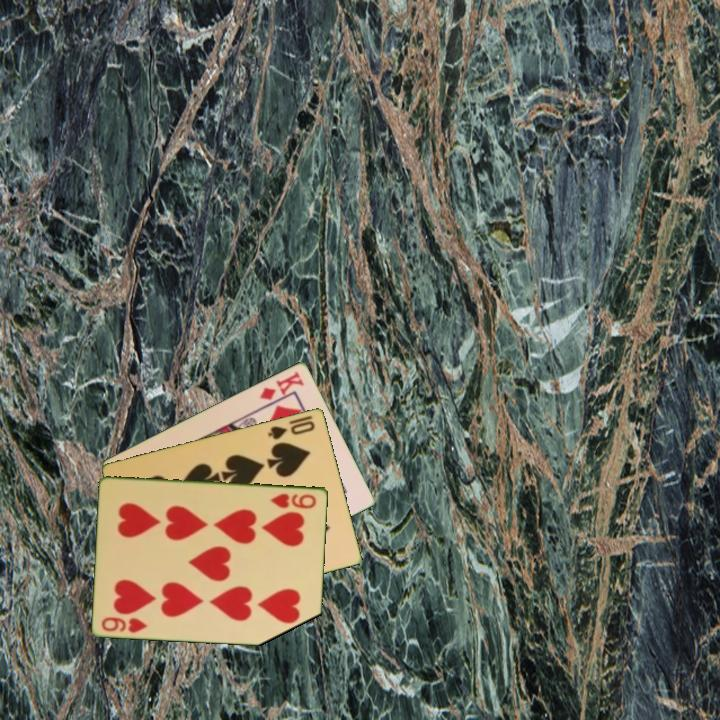10s: (265, 417, 318, 442)
9h: (267, 489, 319, 511), (99, 613, 150, 635)
Kd: (256, 367, 307, 409)
